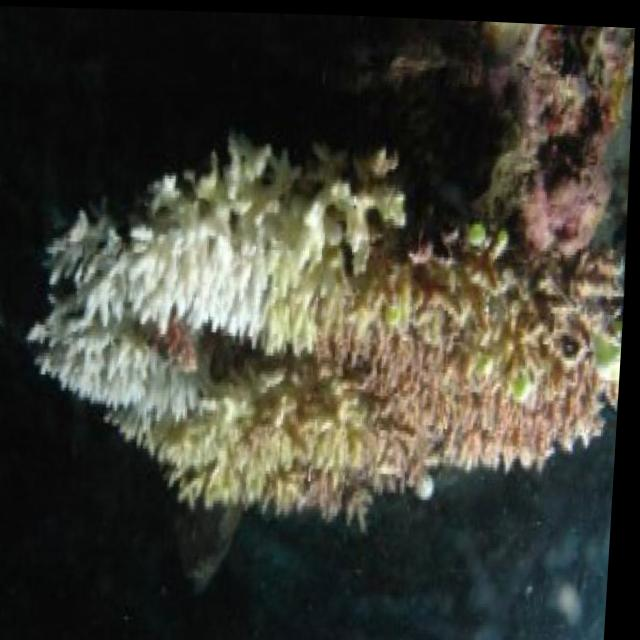Bleached Coral: (1, 116, 372, 460)
